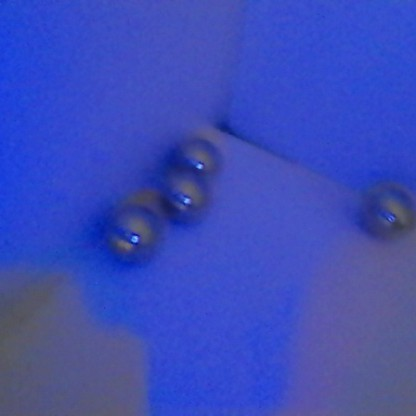ironball: (103, 200, 161, 265), (360, 179, 414, 246), (158, 165, 206, 217), (174, 136, 223, 178)
